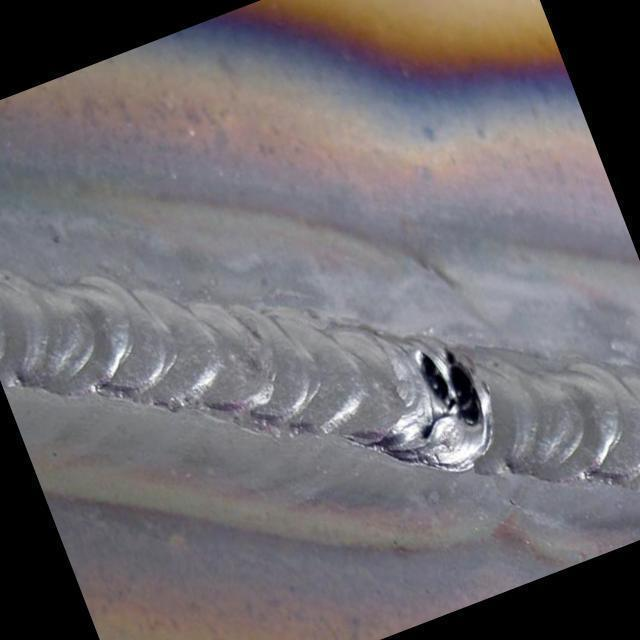defect: (411, 342, 493, 435)
